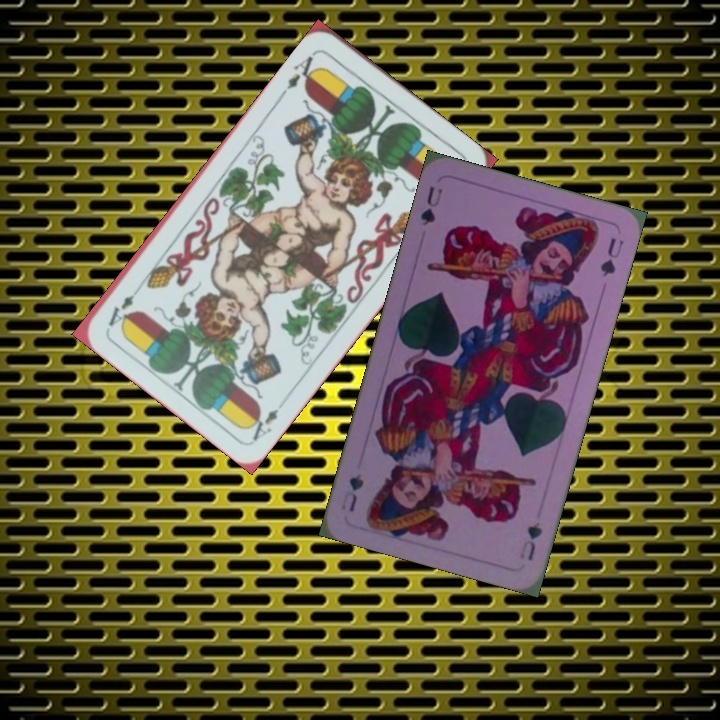EA: (277, 48, 324, 98), (244, 404, 282, 444)
GU: (416, 182, 445, 229), (515, 518, 545, 563)
